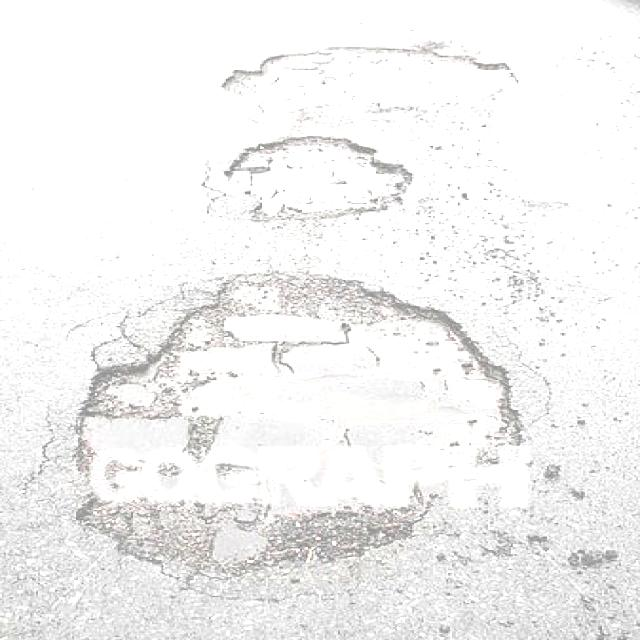Pothole: (100, 39, 529, 245)
